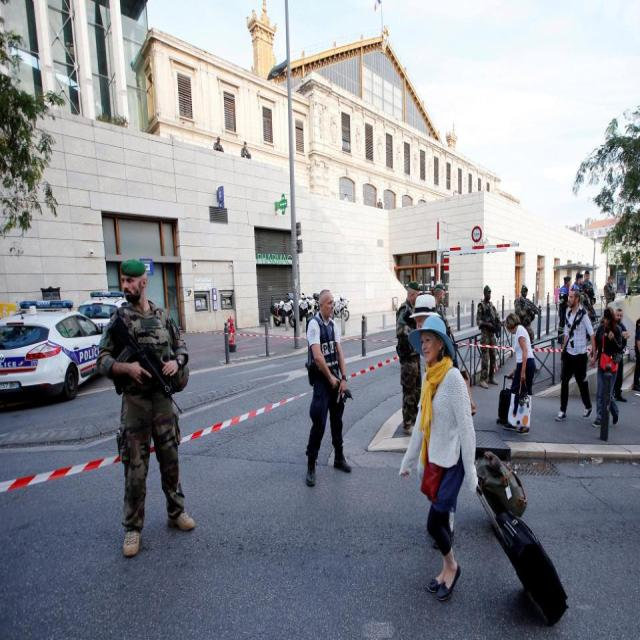body: (93, 256, 199, 562), (405, 314, 480, 606), (408, 292, 460, 553), (303, 287, 355, 489), (553, 287, 597, 423), (395, 279, 423, 436), (502, 312, 537, 435), (589, 305, 619, 427), (474, 282, 502, 391), (514, 283, 542, 349), (614, 307, 631, 404), (430, 282, 454, 338), (208, 133, 254, 160), (556, 275, 571, 344), (631, 318, 640, 392), (603, 275, 616, 305), (570, 272, 585, 291), (582, 270, 593, 287)
